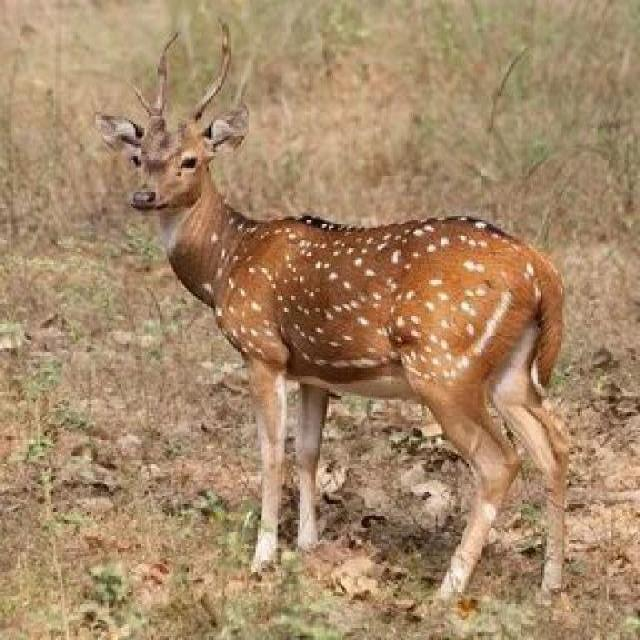deer: (88, 82, 640, 582)
